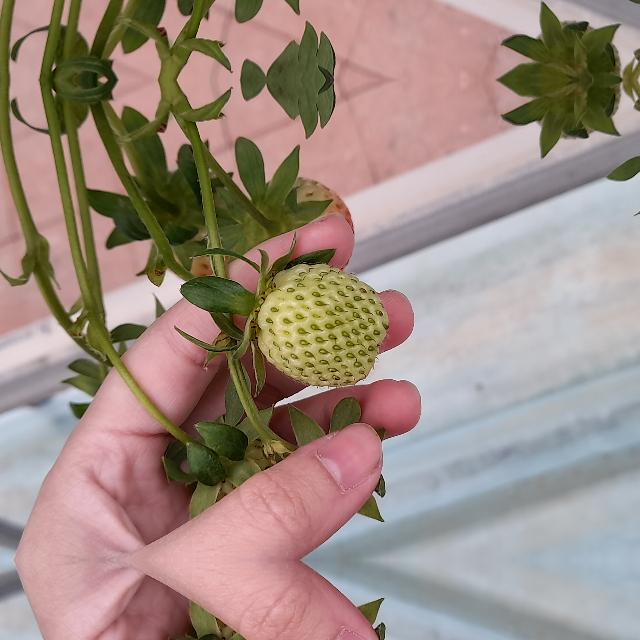Health_25: (256, 264, 388, 386)
